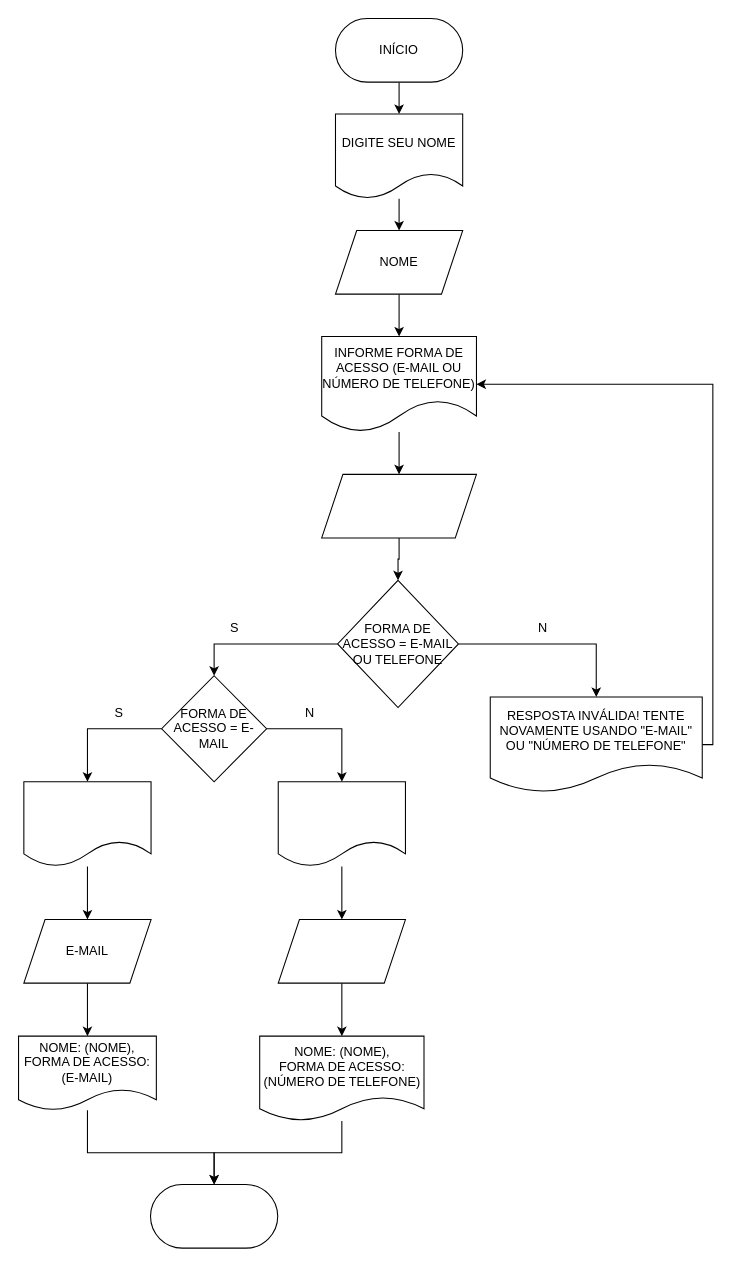
Image size: 740x1267. Some labels were removed from this diagram. The shapes that lost their labels are listed below. From the top down, each one's centre as x and y in pixels, then its label:
At pixel 398 505: "FORMA DE ACESSO".
At pixel 87 824: "INSIRA SEU E-MAIL".
At pixel 341 824: "INSIRA SEU NÚMERO DE TELEFONE".
At pixel 341 950: "NÚMERO DE TELEFONE".
At pixel 213 1215: "FIM".
